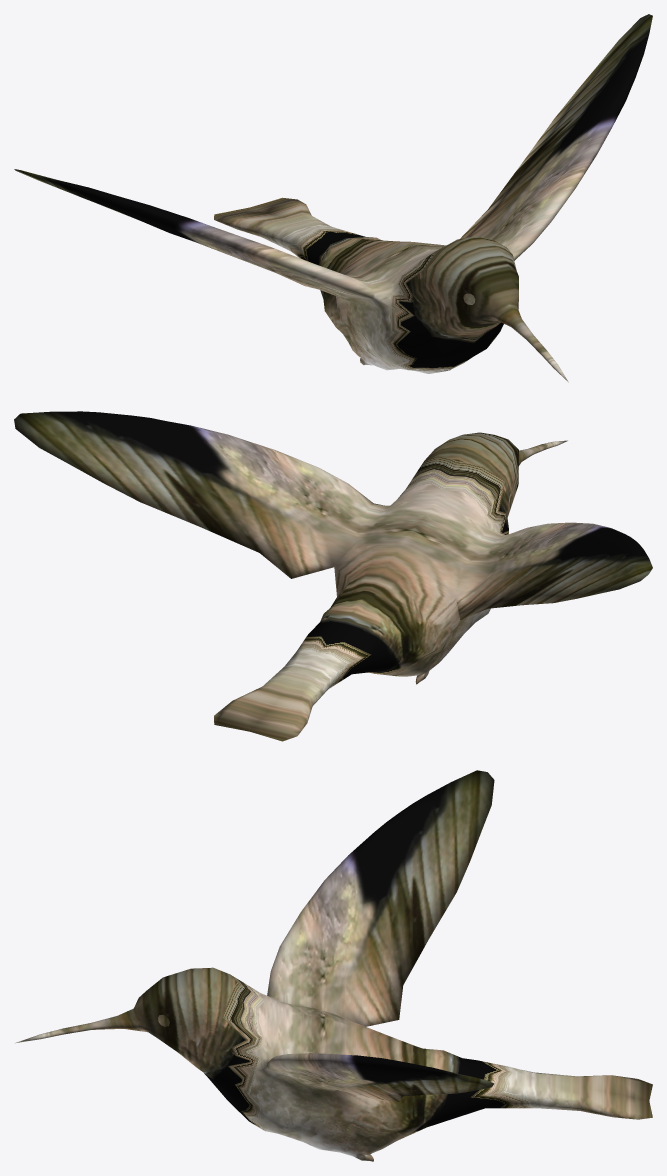
The model's file is humbird.obj.
The picture shows the model from 3 angles, top to bottom: view 1: azimuth 30°, elevation 25°; view 2: azimuth 150°, elevation 25°; view 3: azimuth 270°, elevation 25°; orthographic projection.
Visible parts, largest first — view 1: hum_body; view 2: hum_body; view 3: hum_body.
Part boxes in pixels (box(x1,y1,x2,y2)): hum_body: box(14, 14, 652, 382); hum_body: box(14, 411, 652, 741); hum_body: box(15, 770, 652, 1161).
Bounding box in the file's own units: 0.1007 × 0.0341 × 0.0882.
Materials: 1 (1 with a texture image).
